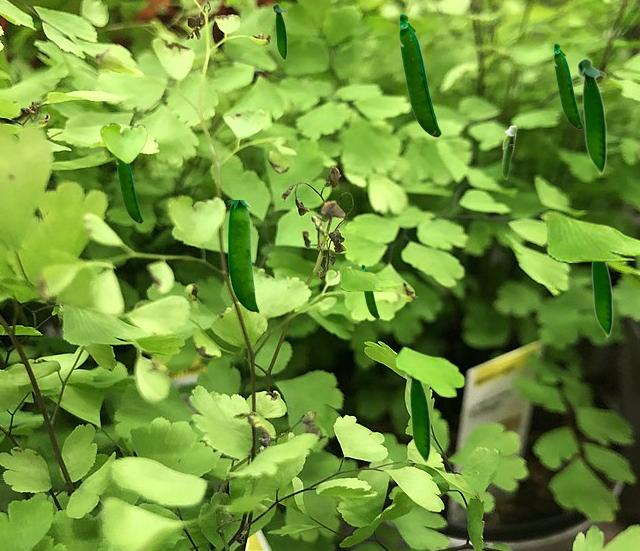pea: (398, 12, 440, 136), (576, 57, 606, 176), (228, 200, 258, 313), (553, 42, 582, 128), (404, 374, 430, 464), (115, 157, 142, 222), (591, 262, 612, 338), (361, 264, 378, 317), (272, 3, 286, 61), (502, 125, 516, 178)
